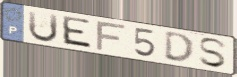5: (133, 26, 158, 59)
D: (162, 31, 196, 65)
E: (60, 15, 94, 51)
F: (94, 21, 129, 53)
S: (197, 37, 230, 69)
U: (26, 9, 60, 44)
